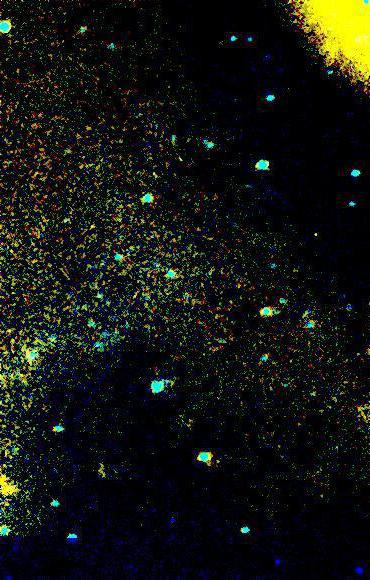star: (0, 470, 18, 500)
